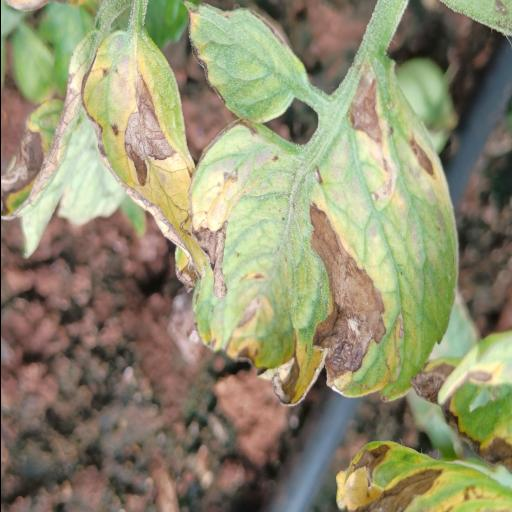disease_tomato: (187, 51, 461, 407), (78, 25, 208, 300)
